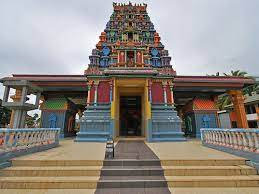Temple: (80, 2, 185, 136)
